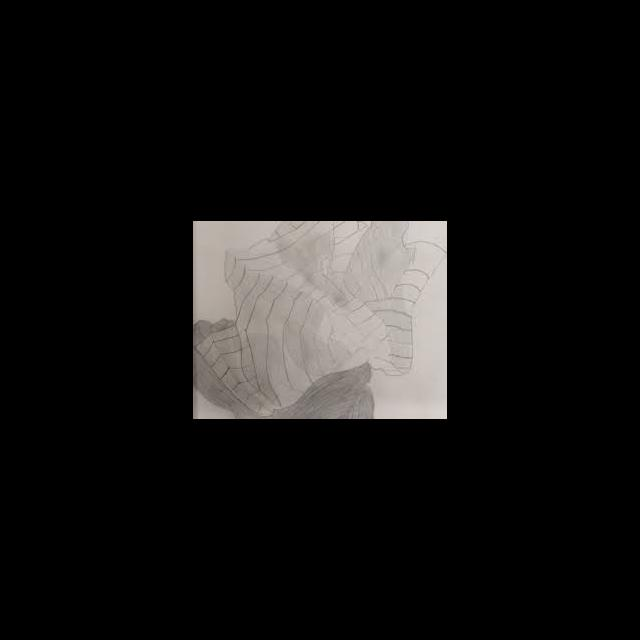paper: (193, 221, 446, 418)
